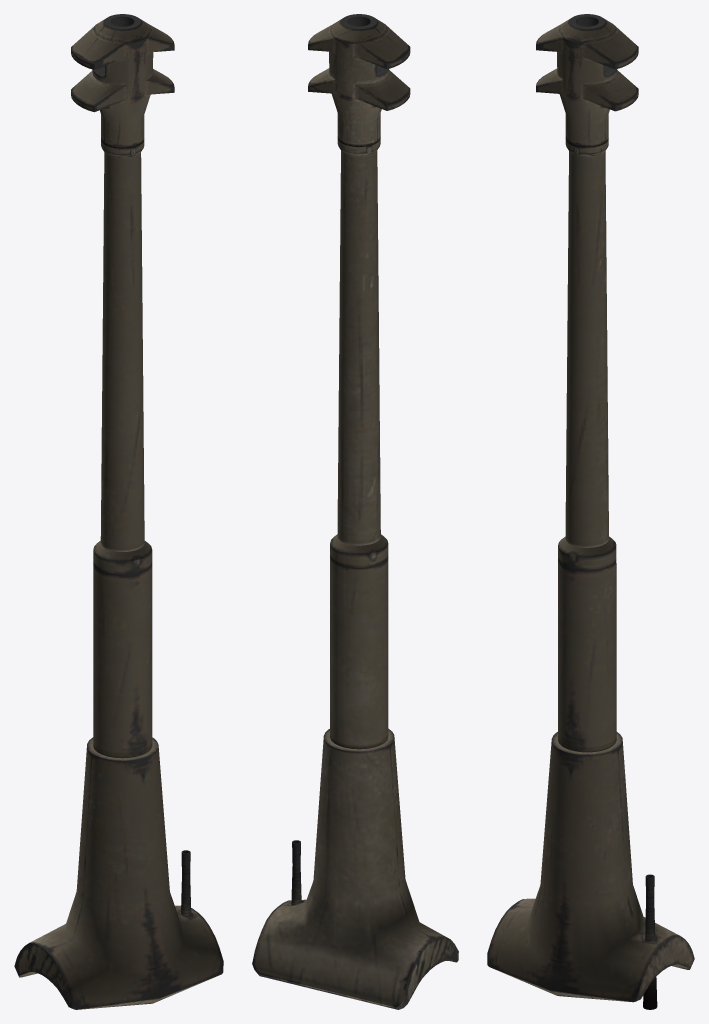
Rendered from Gun_03.glb.
3 views of the same model, side by side, from view 1: azimuth 30°, elevation 25°; view 2: azimuth 150°, elevation 25°; view 3: azimuth 330°, elevation 25° (orthographic).
Parts seen in each view (by area): view 1: set_0_group_0; view 2: set_0_group_0; view 3: set_0_group_0.
Part boxes in pixels (<box>): set_0_group_0: <box>14,14,223,1009</box>; set_0_group_0: <box>252,14,458,1009</box>; set_0_group_0: <box>487,14,694,1009</box>.
Bounding box in the file's own units: 0.7796 × 4.76 × 0.62.
1 material, 1 textured.
